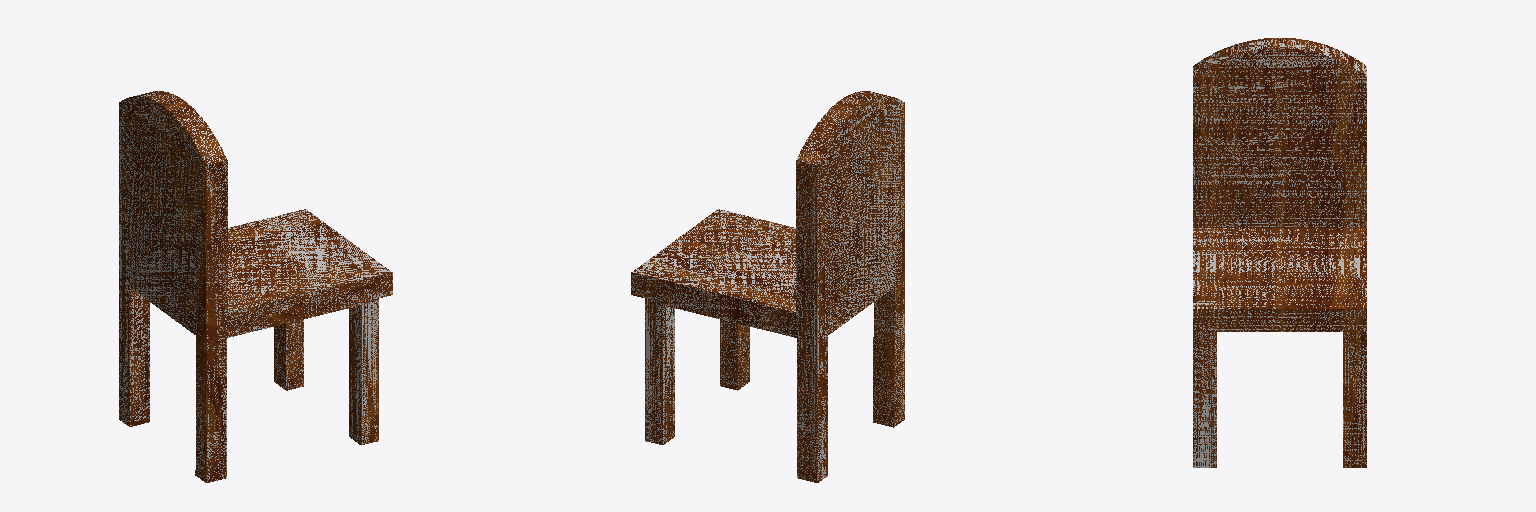
3 views of the same model, side by side, from view 1: azimuth 30°, elevation 25°; view 2: azimuth 150°, elevation 25°; view 3: azimuth 270°, elevation 25° (orthographic).
Visible parts, largest first — view 1: mesh1_mesh1-geometry; view 2: mesh1_mesh1-geometry; view 3: mesh1_mesh1-geometry.
Boxes of the visible parts, box(x1,y1,x2,y2) form: mesh1_mesh1-geometry: box(119, 91, 392, 482); mesh1_mesh1-geometry: box(631, 91, 904, 482); mesh1_mesh1-geometry: box(1193, 38, 1366, 467).
Bounding box in the file's own units: 0.4569 × 0.8098 × 0.368.
2 materials, 1 textured.